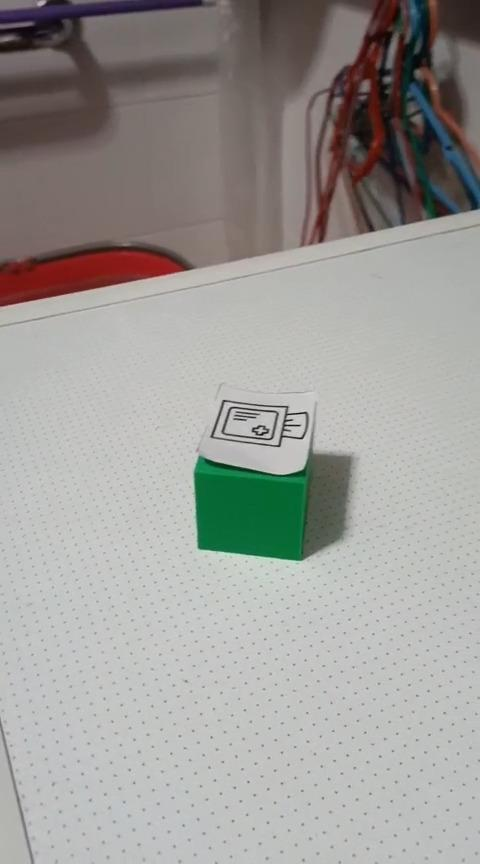Gauze: (192, 381, 318, 561)
